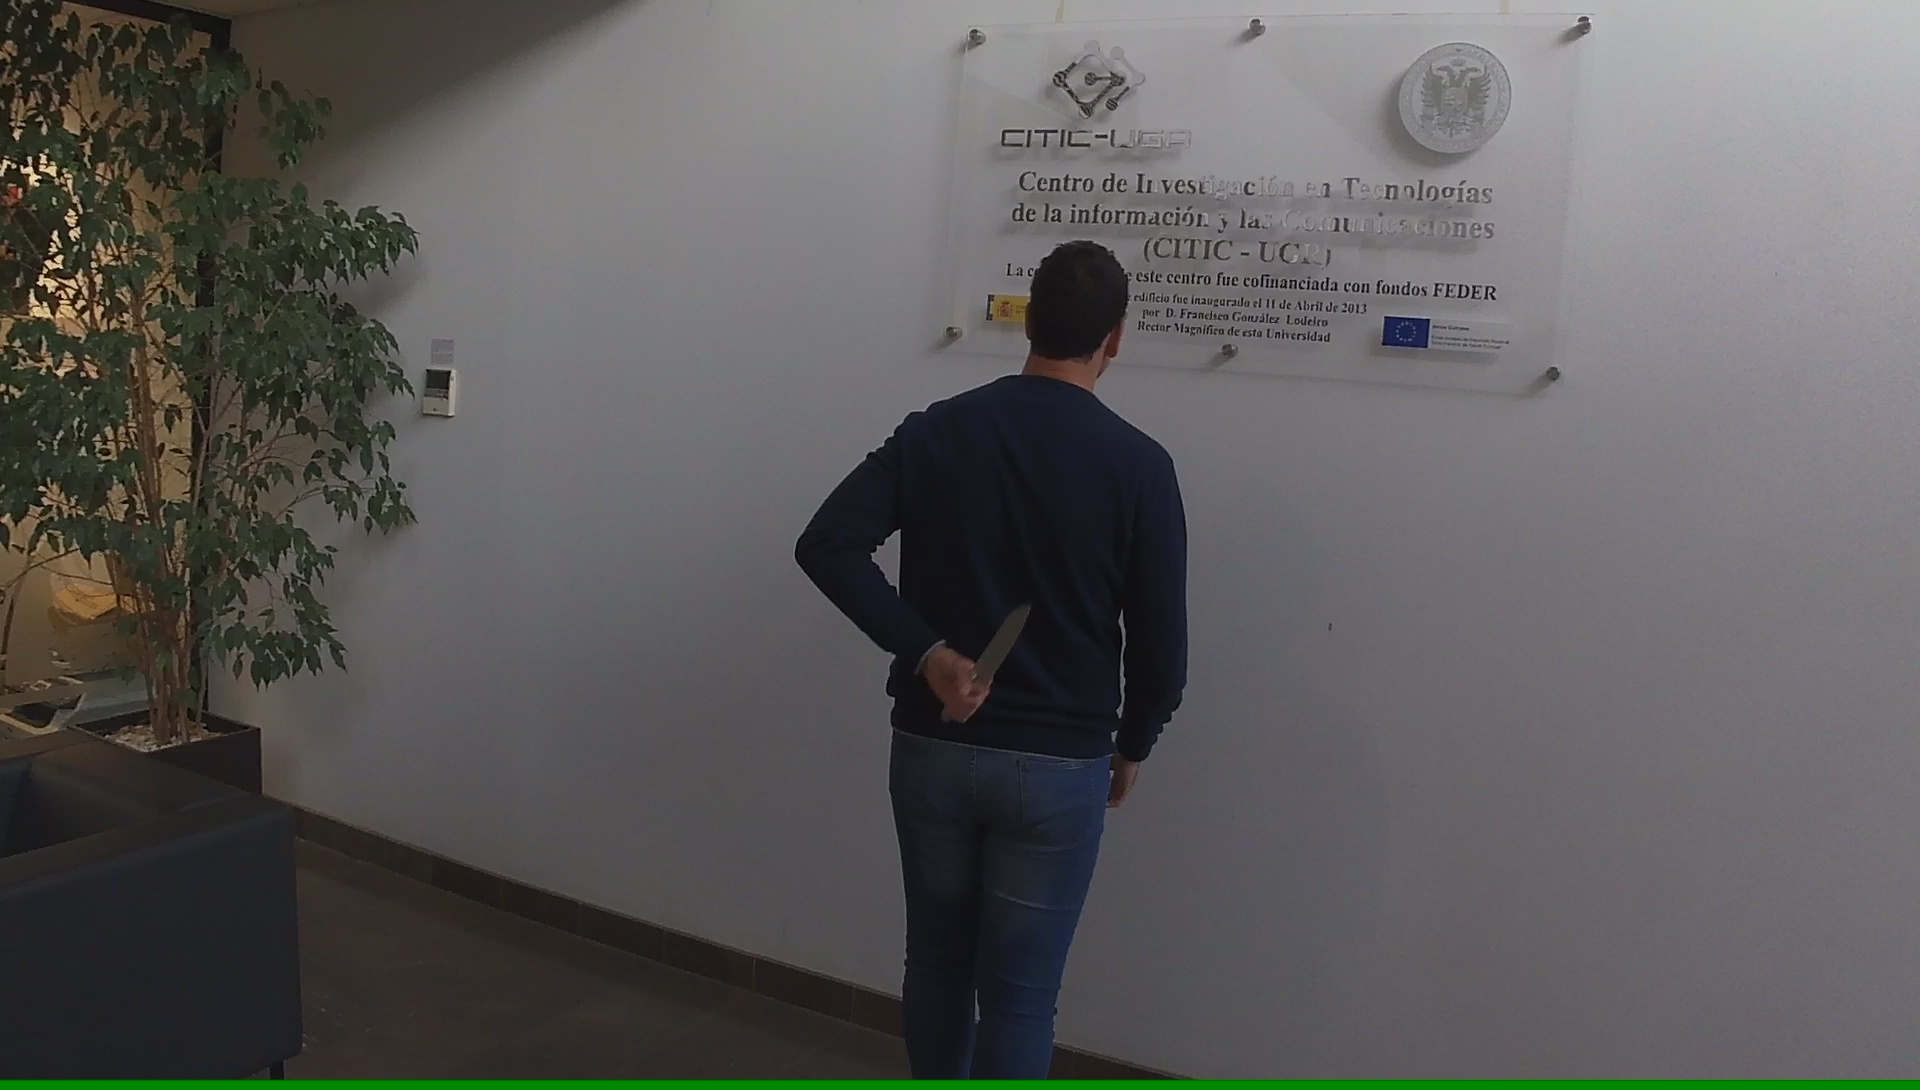knife: (936, 594, 1040, 728)
